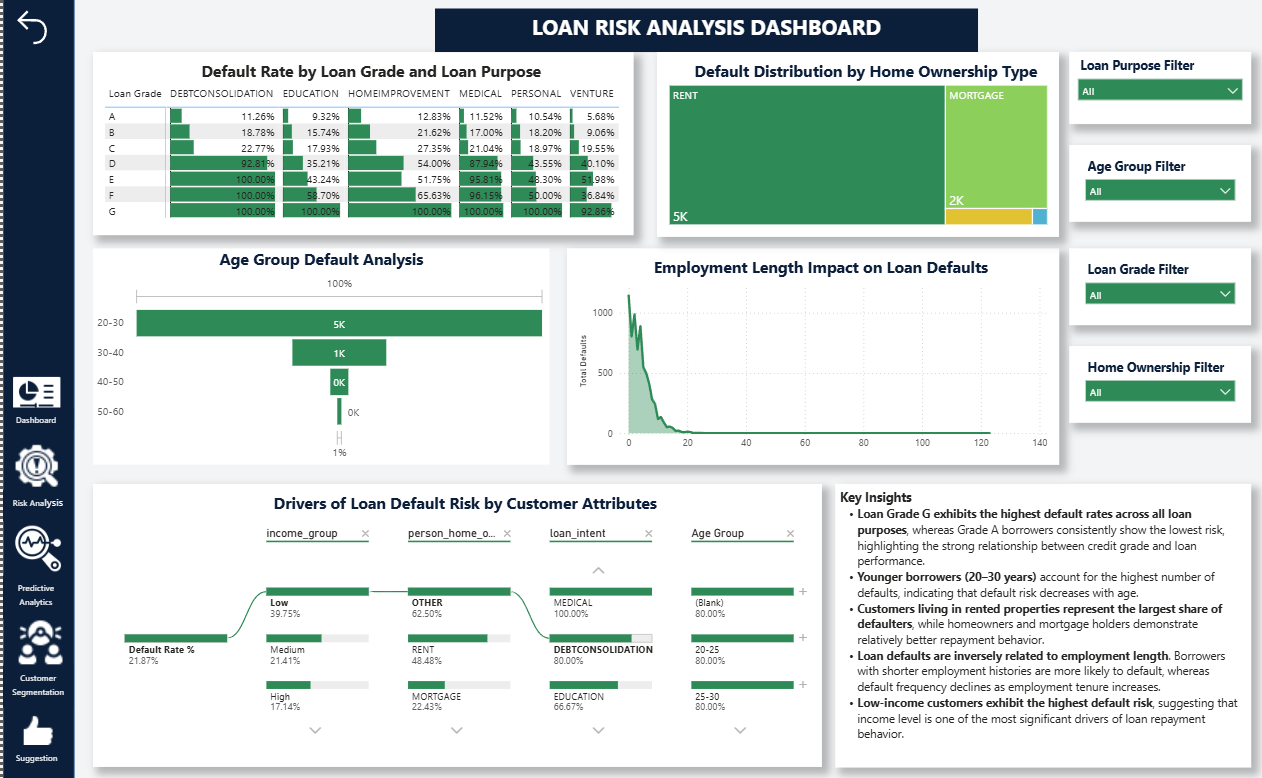

The dashboard page shown, as its layout file describes it:
{"tool":"powerbi","page":{"name":"Risk Analytics Dashboard","canvas":[1600,1000],"ordinal":2},"visuals":[{"type":"pivotTable","title":"Default Rate by Loan Grade and Loan Purpose","fields":{"Rows":["processed_credit_data.loan_grade"],"Columns":["processed_credit_data.loan_intent"],"Values":["Measure.Default Rate %"]},"box":[114.5,77,686.9,232.9],"z":0},{"type":"areaChart","title":"Employment Length Impact on Loan Defaults","fields":{"Category":["processed_credit_data.person_emp_length"],"Y":["Measure.Total Defaults"]},"box":[716.7,325.9,625.2,274.5],"z":1000},{"type":"textbox","box":[548.9,21,690,55.3],"z":2000},{"type":"shape","box":[0,0,90.8,1202],"z":3000},{"type":"funnel","title":"Age Group Default Analysis","fields":{"Category":["processed_credit_data.age_group"],"Y":["Measure.Total Defaults"]},"box":[114.5,325.7,580.3,274.3],"z":4000},{"type":"decompositionTreeVisual","title":"Drivers of Loan Default Risk by Customer Attributes","fields":{"Analyze":["Measure.Default Rate %"],"ExplainBy":["processed_credit_data.income_group","processed_credit_data.person_home_ownership","processed_credit_data.loan_intent","credit_risk_data.Age Group","processed_credit_data.loan_grade"]},"box":[114.5,625.7,925.7,359.2],"z":5000},{"type":"treemap","title":"Default Distribution by Home Ownership Type","fields":{"Group":["processed_credit_data.person_home_ownership"],"Values":["Measure.Total Defaults"]},"box":[831,76.2,510.8,234.4],"z":6000},{"type":"slicer","fields":{"Values":["processed_credit_data.age_group"]},"box":[1355.2,194.4,230.6,97.2],"z":7000},{"type":"slicer","fields":{"Values":["processed_credit_data.person_home_ownership"]},"box":[1355.2,449.8,230.6,97.2],"z":8000},{"type":"textbox","box":[1057.8,625.2,528,360.2],"z":9000},{"type":"actionButton","box":[9.5,17.2,80.1,55.3],"z":10000},{"type":"image","box":[9.5,480.3,66.7,62.9],"z":11000},{"type":"image","box":[9.5,571.8,66.7,61],"z":12000},{"type":"image","box":[5.7,672.8,78.1,68.6],"z":13000},{"type":"image","box":[5.7,916.8,78.1,49.6],"z":14000},{"type":"image","box":[11.4,796.7,72.4,59.1],"z":15000},{"type":"textbox","box":[11.4,528,78.1,28.6],"z":16000},{"type":"textbox","box":[0,633.6,88.8,39.5],"z":17000},{"type":"textbox","box":[0,741.4,83.9,55.3],"z":18000},{"type":"textbox","box":[0,855.8,89.6,53.4],"z":19000},{"type":"textbox","box":[3.8,956.2,78.1,43.8],"z":20000},{"type":"slicer","fields":{"Values":["processed_credit_data.loan_intent"]},"box":[1355.2,76.2,230.6,91.5],"z":21000},{"type":"slicer","fields":{"Values":["processed_credit_data.loan_grade"]},"box":[1355.2,325.9,230.6,97.2],"z":22000}]}

Visuals, with their boxes on the page's 1600x1000 design canvas (x1, y1, x2, y2). These are canvas units, not pixel positions in the 1262x778 screenshot, which may show the page scaled, cropped or inside an application window:
"Default Rate by Loan Grade and Loan Purpose" pivotTable: (left=114, top=77, right=801, bottom=310)
"Employment Length Impact on Loan Defaults" areaChart: (left=717, top=326, right=1342, bottom=600)
textbox: (left=549, top=21, right=1239, bottom=76)
shape: (left=0, top=0, right=91, bottom=1202)
"Age Group Default Analysis" funnel: (left=114, top=326, right=695, bottom=600)
"Drivers of Loan Default Risk by Customer Attributes" decompositionTreeVisual: (left=114, top=626, right=1040, bottom=985)
"Default Distribution by Home Ownership Type" treemap: (left=831, top=76, right=1342, bottom=311)
slicer - processed_credit_data.age_group: (left=1355, top=194, right=1586, bottom=292)
slicer - processed_credit_data.person_home_ownership: (left=1355, top=450, right=1586, bottom=547)
textbox: (left=1058, top=625, right=1586, bottom=985)
actionButton: (left=10, top=17, right=90, bottom=72)
image: (left=10, top=480, right=76, bottom=543)
image: (left=10, top=572, right=76, bottom=633)
image: (left=6, top=673, right=84, bottom=741)
image: (left=6, top=917, right=84, bottom=966)
image: (left=11, top=797, right=84, bottom=856)
textbox: (left=11, top=528, right=90, bottom=557)
textbox: (left=0, top=634, right=89, bottom=673)
textbox: (left=0, top=741, right=84, bottom=797)
textbox: (left=0, top=856, right=90, bottom=909)
textbox: (left=4, top=956, right=82, bottom=1000)
slicer - processed_credit_data.loan_intent: (left=1355, top=76, right=1586, bottom=168)
slicer - processed_credit_data.loan_grade: (left=1355, top=326, right=1586, bottom=423)
